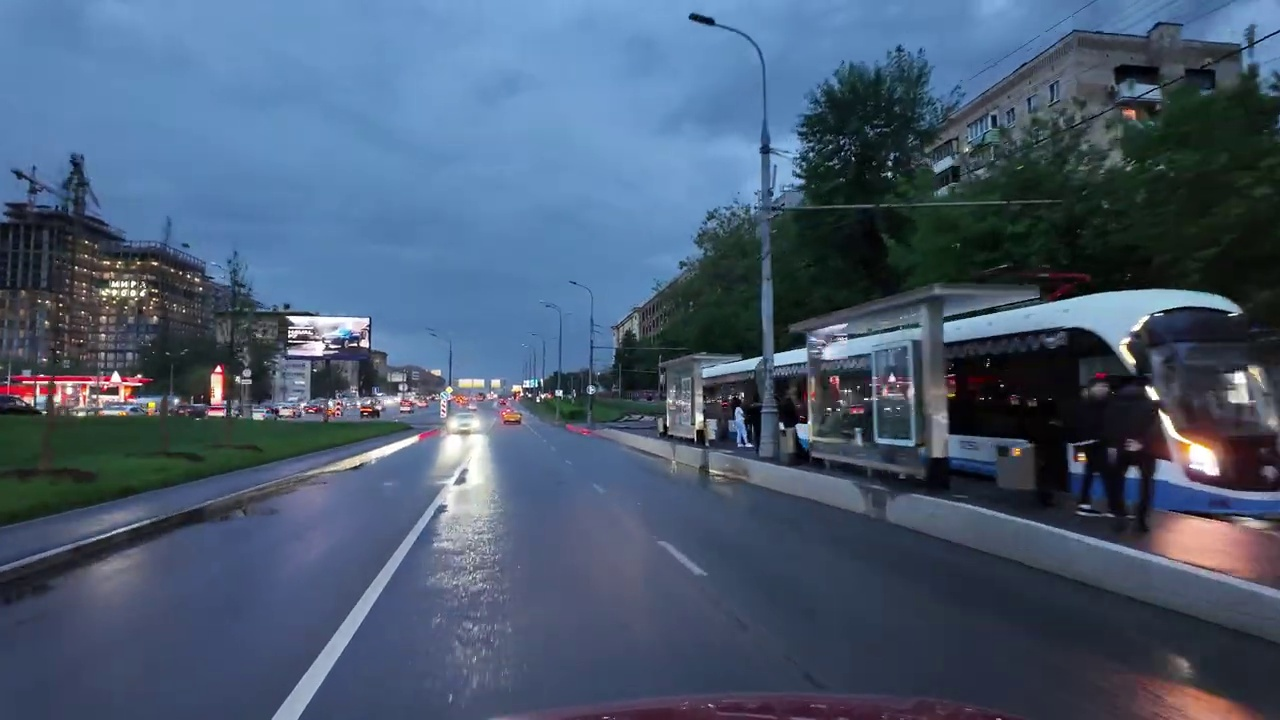apagada: (686, 9, 716, 30), (563, 275, 585, 294)
